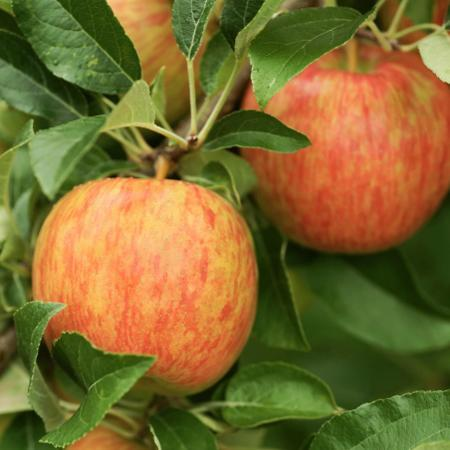obscured(0)_apple: (32, 178, 259, 399), (239, 38, 450, 252)
